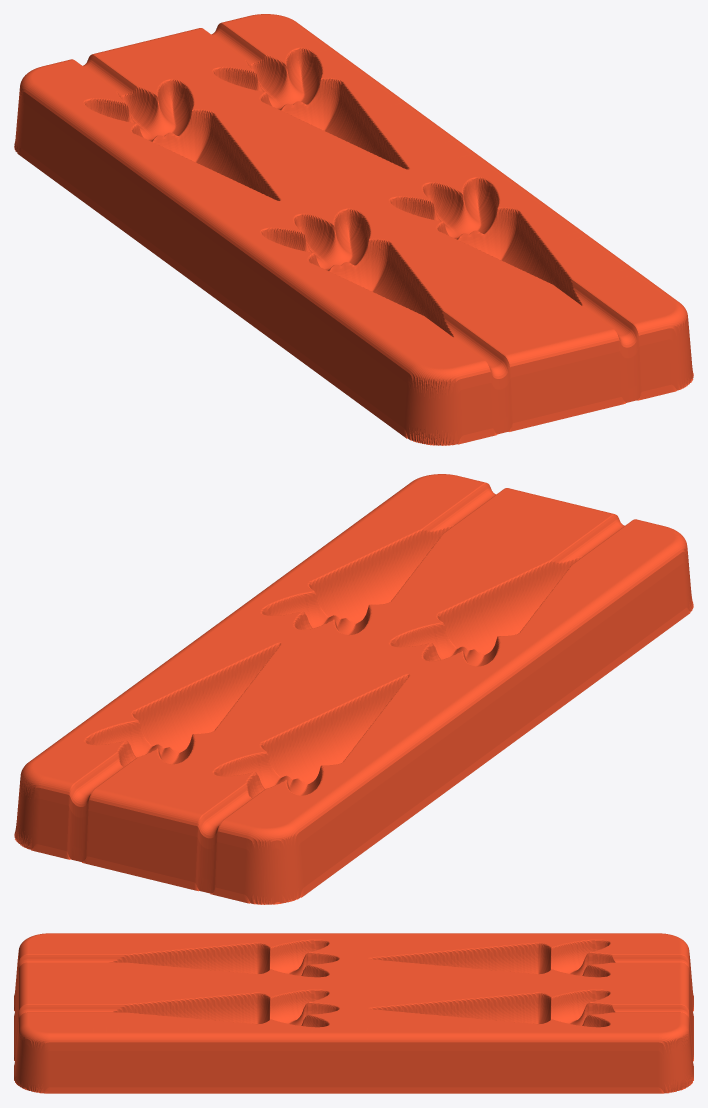
The model's file is mold.glb.
3 renders of one model, top to bottom at view 1: azimuth 30°, elevation 25°; view 2: azimuth 150°, elevation 25°; view 3: azimuth 270°, elevation 25°, orthographic. The views are drawn at different scales.
Visible parts, largest first — view 1: geometry_0; view 2: geometry_0; view 3: geometry_0.
Boxes of the visible parts, box(x1,y1,x2,y2) form: geometry_0: box(14, 14, 693, 445); geometry_0: box(14, 474, 693, 904); geometry_0: box(14, 933, 693, 1093).
Size of the model in its own units: 0.0666 by 0.0155 by 0.1735.
